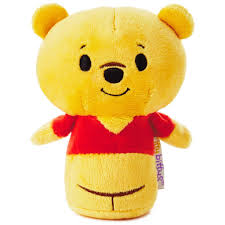Winnie: (25, 4, 205, 149)
